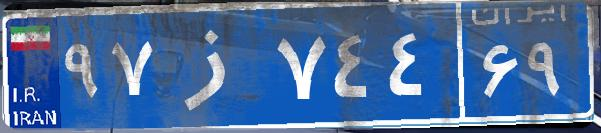4: (385, 28, 445, 110), (330, 28, 385, 110)
6: (475, 38, 525, 113)
7: (273, 28, 330, 110), (110, 28, 158, 105)
9: (57, 26, 110, 107), (525, 38, 570, 115)
ز: (158, 15, 273, 115)
